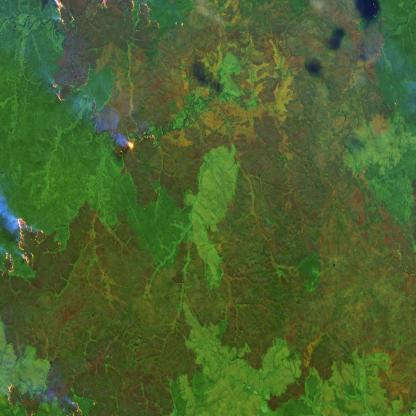fire: (47, 0, 156, 160), (0, 208, 67, 282), (0, 378, 89, 416)
